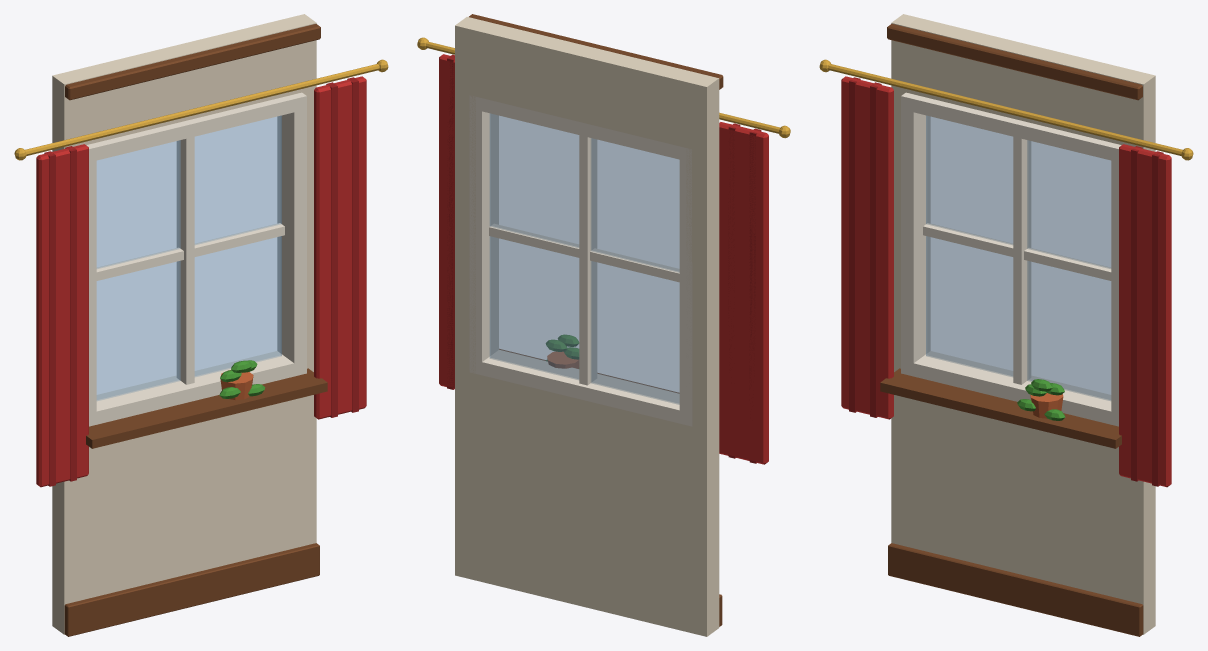
File: wall_window.glb
3 views of the same model, side by side, from view 1: azimuth 30°, elevation 25°; view 2: azimuth 150°, elevation 25°; view 3: azimuth 330°, elevation 25° (orthographic).
Visible parts, largest first — view 1: wall_window, curtain_l, curtain_r; view 2: wall_window, curtain_l, curtain_r; view 3: wall_window, curtain_r, curtain_l.
Boxes of the visible parts, <box> form: wall_window: <box>14,14,388,636</box>; curtain_l: <box>36,144,88,487</box>; curtain_r: <box>314,76,366,419</box>; wall_window: <box>417,14,790,636</box>; curtain_l: <box>719,122,768,464</box>; curtain_r: <box>439,54,454,389</box>; wall_window: <box>819,14,1193,636</box>; curtain_r: <box>1119,144,1171,487</box>; curtain_l: <box>841,76,893,419</box>.
Bounding box in the file's own units: 1.77 × 2.5 × 0.26.
